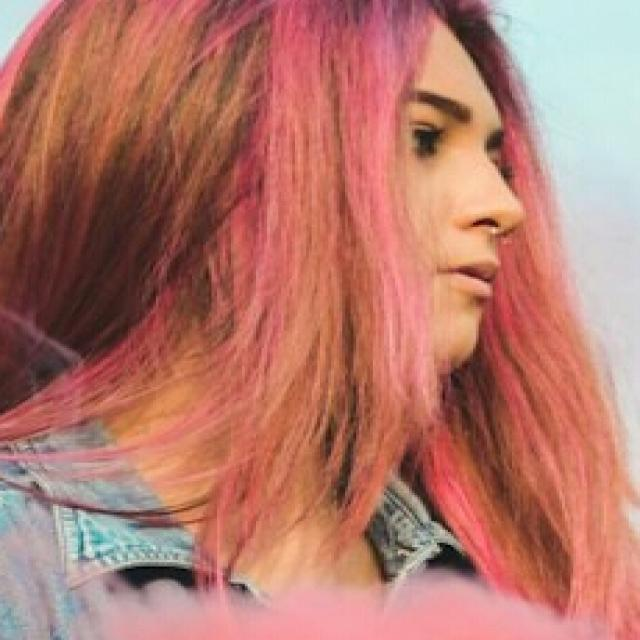front: (246, 52, 547, 371)
